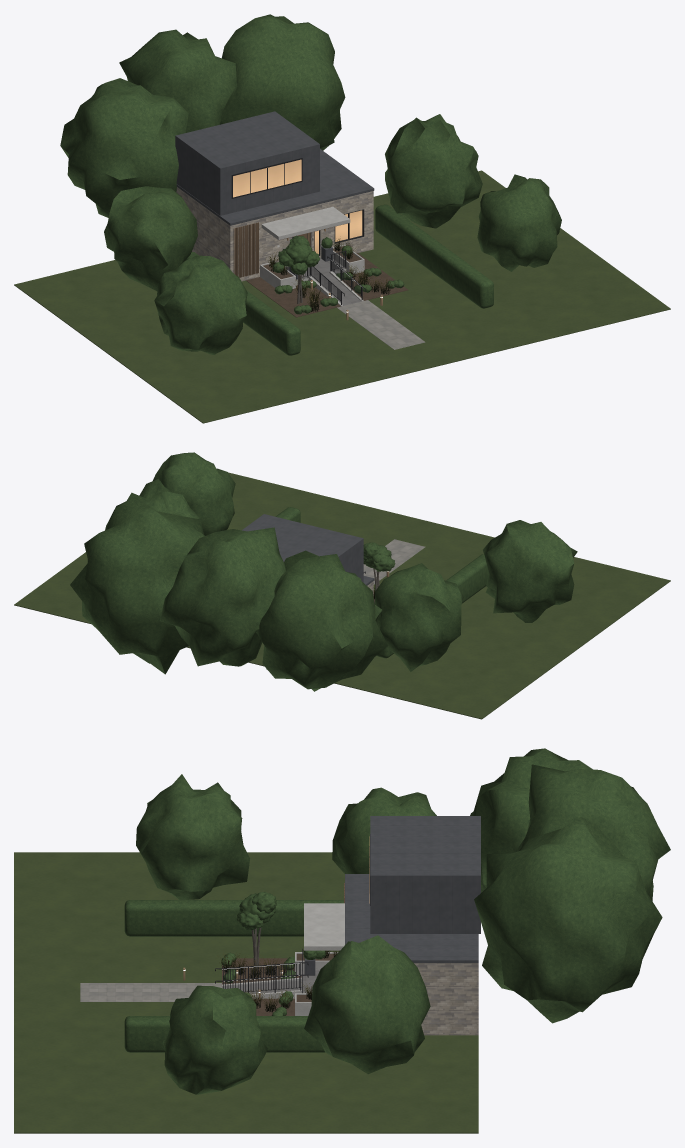
Rendered from threshold_entrance.glb.
3 renders of one model, top to bottom at view 1: azimuth 30°, elevation 25°; view 2: azimuth 150°, elevation 25°; view 3: azimuth 270°, elevation 25°, orthographic. The views are drawn at different scales.
Parts seen in each view (by area): view 1: Background_Foliage, Lawn, Upper_Volume, Facade_Wall, Roof_Slab, Garden_Beds, Walkway, Facade_Side_West, Canopy, Upper_Window, Slat_Screen, Shrubs (+5 smaller); view 2: Background_Foliage, Lawn, Upper_Volume, Walkway, Tree_Canopy; view 3: Background_Foliage, Lawn, Upper_Volume, Roof_Slab, Facade_Side_East, Walkway, Canopy, Garden_Beds, Grasses, Tree_Canopy, Shrubs, Railing_Balusters (+1 smaller).
Part boxes in pixels (x1=…): Background_Foliage: x1=60, y1=14, x2=561, y2=355; Lawn: x1=14, y1=170, x2=670, y2=423; Upper_Volume: x1=175, y1=111, x2=319, y2=215; Facade_Wall: x1=227, y1=191, x2=373, y2=281; Roof_Slab: x1=176, y1=149, x2=374, y2=225; Garden_Beds: x1=246, y1=253, x2=408, y2=317; Walkway: x1=337, y1=300, x2=425, y2=349; Facade_Side_West: x1=176, y1=187, x2=227, y2=265; Canopy: x1=261, y1=206, x2=350, y2=240; Upper_Window: x1=233, y1=159, x2=301, y2=197; Slat_Screen: x1=233, y1=222, x2=258, y2=277; Shrubs: x1=273, y1=245, x2=404, y2=314; Background_Foliage: x1=70, y1=452, x2=577, y2=691; Lawn: x1=14, y1=472, x2=670, y2=719; Upper_Volume: x1=242, y1=514, x2=363, y2=582; Walkway: x1=363, y1=539, x2=425, y2=584; Tree_Canopy: x1=363, y1=542, x2=395, y2=571; Background_Foliage: x1=124, y1=748, x2=670, y2=1094; Lawn: x1=14, y1=852, x2=478, y2=1133; Upper_Volume: x1=370, y1=816, x2=480, y2=933; Roof_Slab: x1=345, y1=874, x2=478, y2=963; Facade_Side_East: x1=414, y1=963, x2=478, y2=1035; Walkway: x1=80, y1=983, x2=221, y2=1001; Canopy: x1=304, y1=903, x2=344, y2=950; Garden_Beds: x1=222, y1=958, x2=301, y2=1015; Grasses: x1=219, y1=949, x2=339, y2=1012; Tree_Canopy: x1=237, y1=892, x2=276, y2=930; Shrubs: x1=221, y1=950, x2=325, y2=1015; Railing_Balusters: x1=225, y1=963, x2=299, y2=991.
Size of the model in its own units: 30 by 10.57 by 29.69.
Materials: 26 (15 with a texture image).
